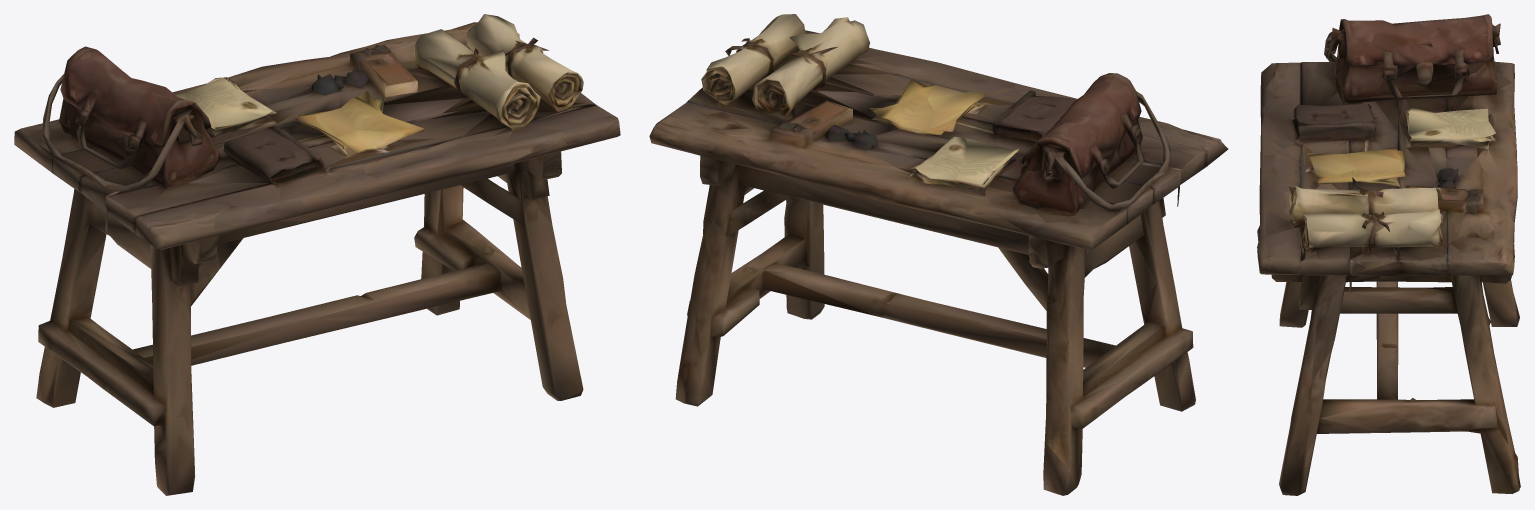
The model's file is courier-table.glb.
3 views of the same model, side by side, from view 1: azimuth 30°, elevation 25°; view 2: azimuth 150°, elevation 25°; view 3: azimuth 270°, elevation 25° (orthographic). The views are drawn at different scales.
Parts seen in each view (by area): view 1: tripo_node_fc09a428-d874-4d5b-9847-ec27eb151c54; view 2: tripo_node_fc09a428-d874-4d5b-9847-ec27eb151c54; view 3: tripo_node_fc09a428-d874-4d5b-9847-ec27eb151c54.
Boxes of the visible parts, x1,y1,x2,y2 form: tripo_node_fc09a428-d874-4d5b-9847-ec27eb151c54: (14,14,620,495); tripo_node_fc09a428-d874-4d5b-9847-ec27eb151c54: (649,14,1228,495); tripo_node_fc09a428-d874-4d5b-9847-ec27eb151c54: (1257,14,1520,495).
Size of the model in its own units: 1.37 by 1 by 0.7522.
Materials: 1 (1 with a texture image).
